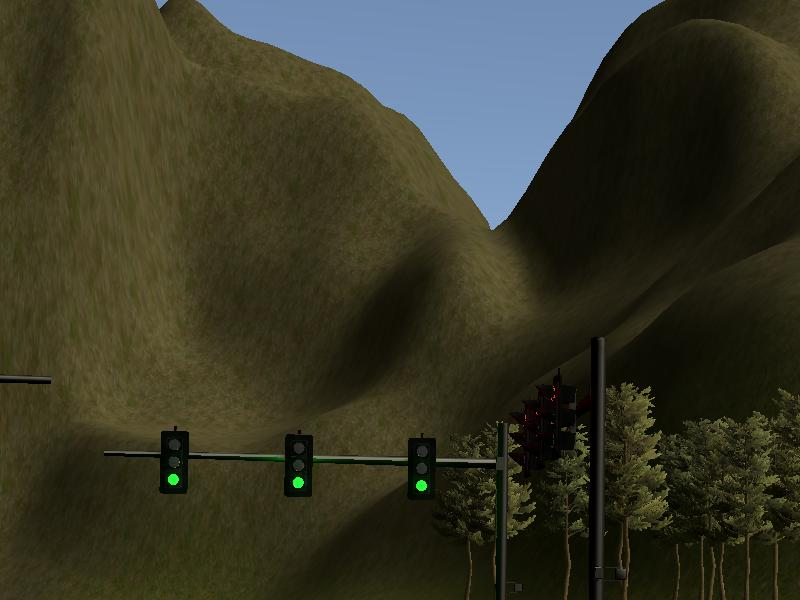green: (160, 429, 189, 494), (283, 433, 312, 498), (406, 435, 435, 500)
